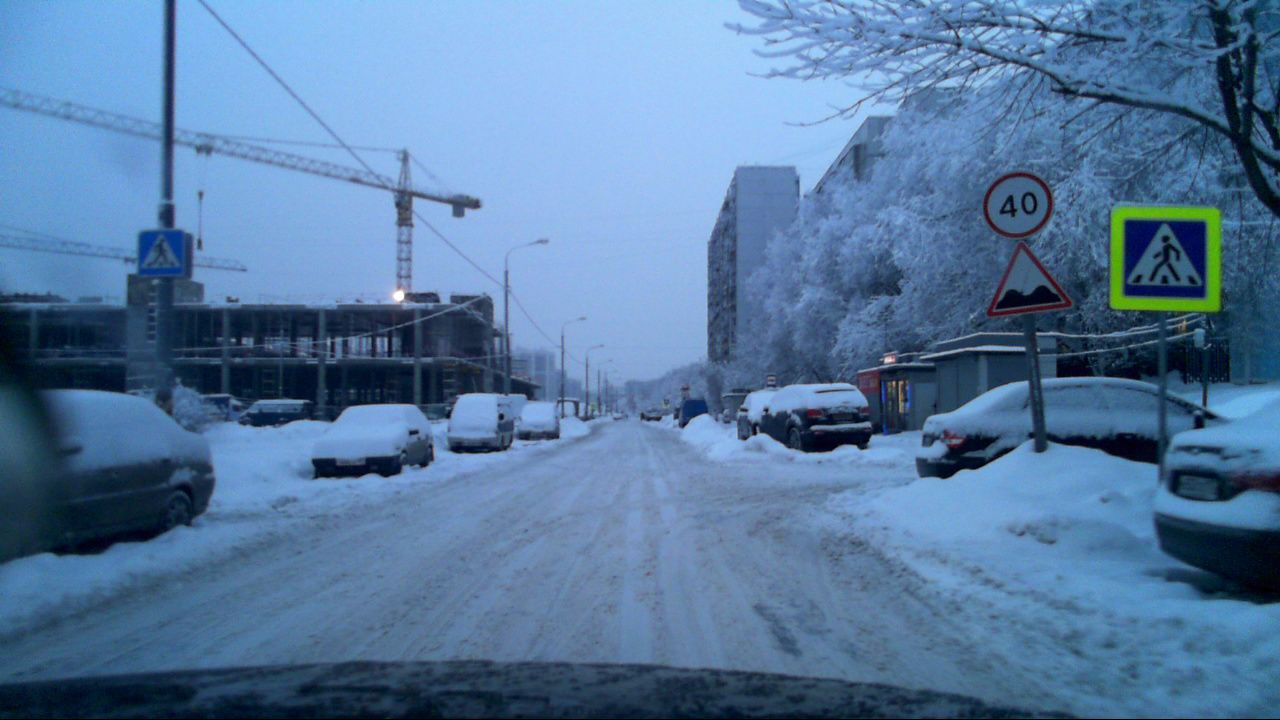speed_warning_40: (984, 171, 1052, 237)
